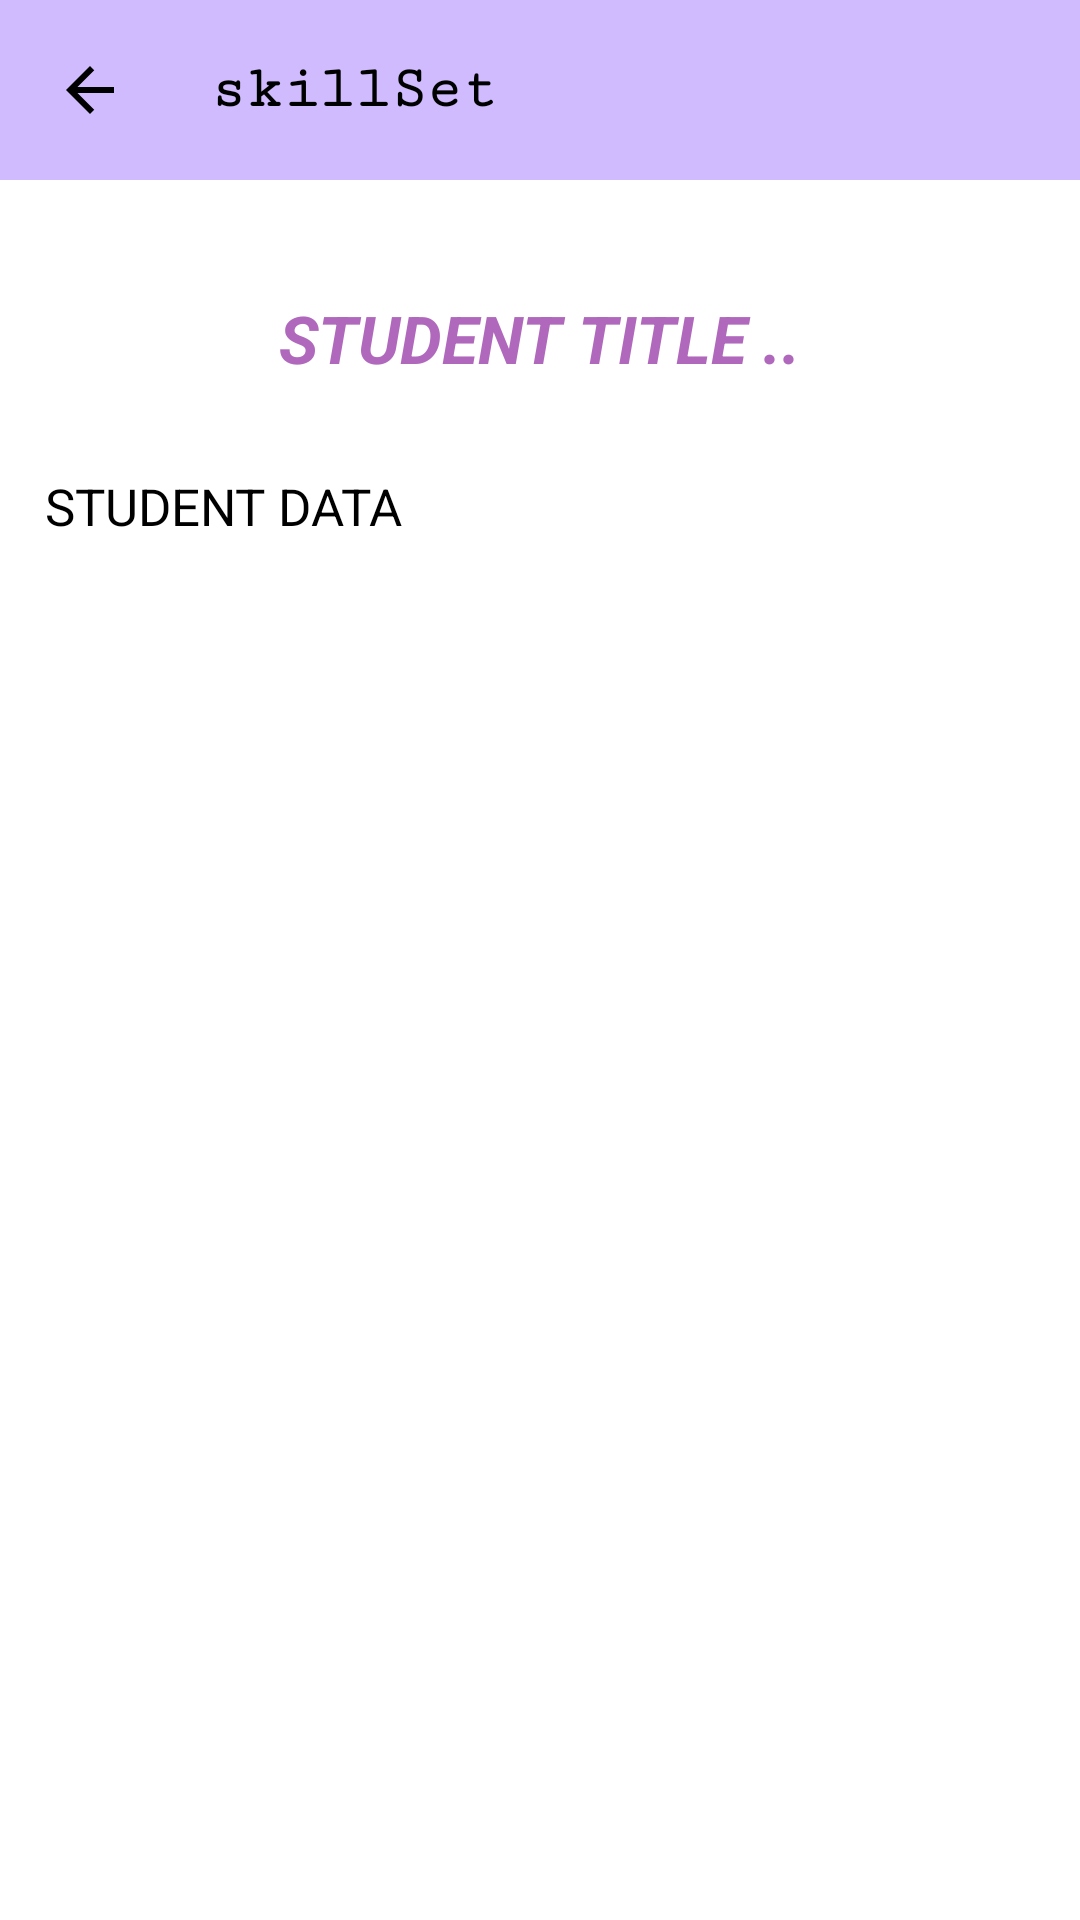

Where icons sit on this 1080x1920 app screen, as [x1, y1, x2, y2]:
file back: [66, 66, 114, 114]
